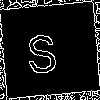S: (24, 25, 59, 75)
